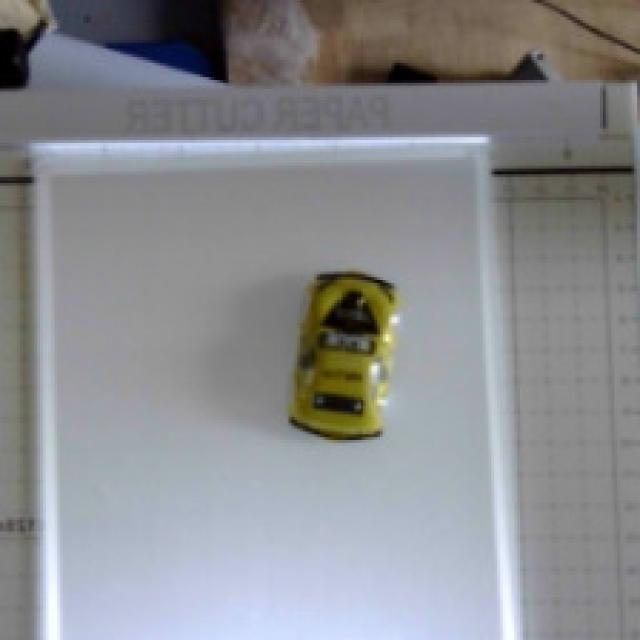Yellow Car: (247, 233, 418, 480)
